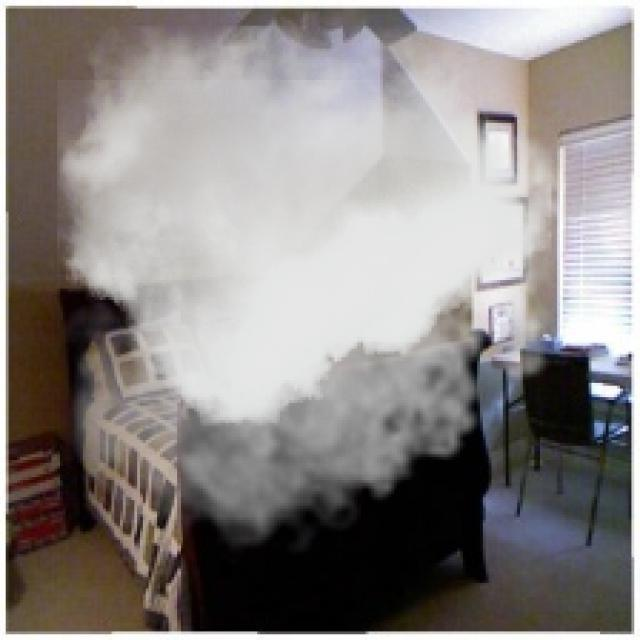Smoke: (57, 26, 583, 566)
